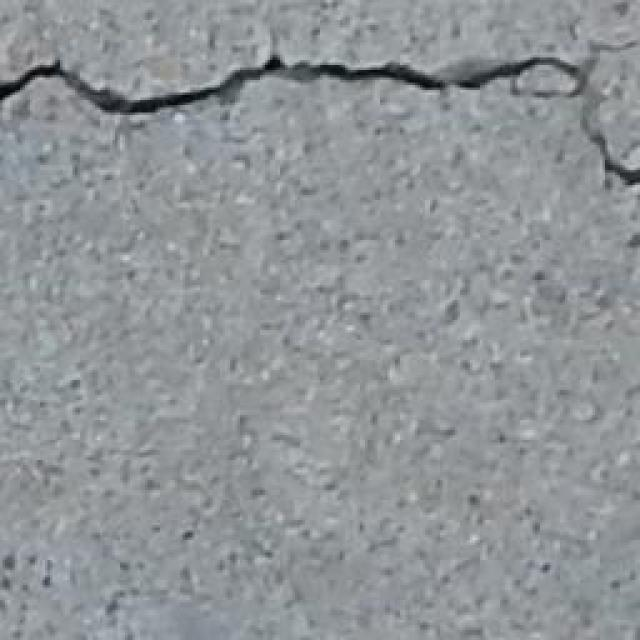concrete-crack: (0, 41, 640, 193)
